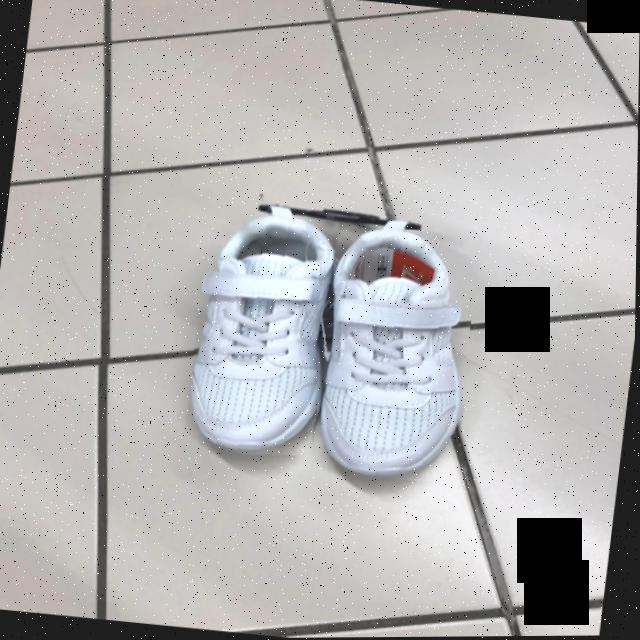shoe: (322, 228, 462, 478), (192, 215, 335, 455)
